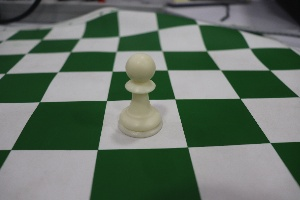white_pawn: (110, 40, 169, 143)
